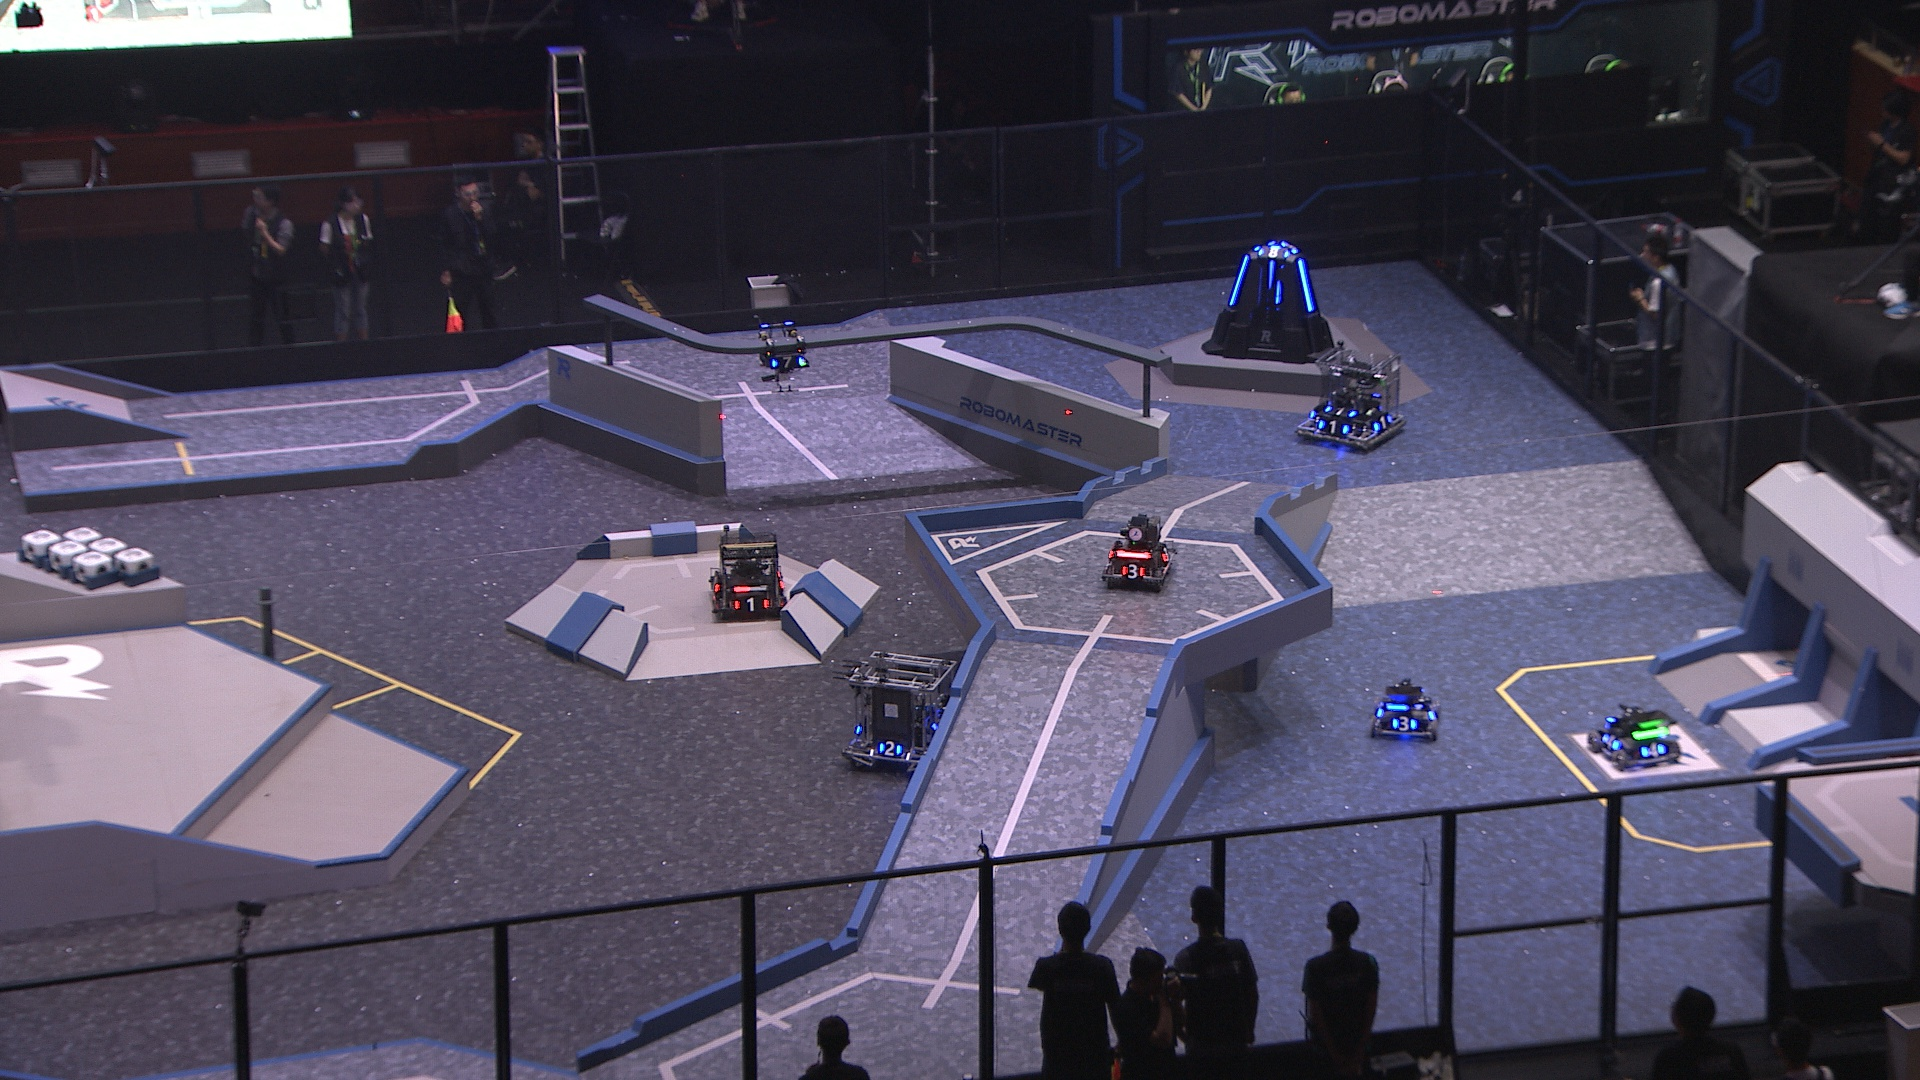armor: (1225, 253, 1253, 309), (1294, 256, 1316, 313), (732, 595, 771, 613), (767, 353, 807, 371), (1316, 417, 1349, 436), (1323, 404, 1361, 419), (1387, 713, 1418, 733), (1598, 727, 1622, 752), (876, 738, 903, 760), (1638, 740, 1667, 760), (1259, 243, 1290, 261), (1120, 564, 1147, 580), (1371, 414, 1394, 433), (708, 567, 723, 595), (1266, 258, 1275, 291), (1282, 239, 1298, 255), (1159, 543, 1172, 562)
base: (1201, 235, 1340, 367)
car: (837, 647, 971, 778), (1295, 339, 1408, 454), (703, 524, 790, 621), (1586, 700, 1684, 771), (1098, 513, 1178, 595), (1366, 678, 1441, 742)
watcher: (752, 314, 814, 392)
